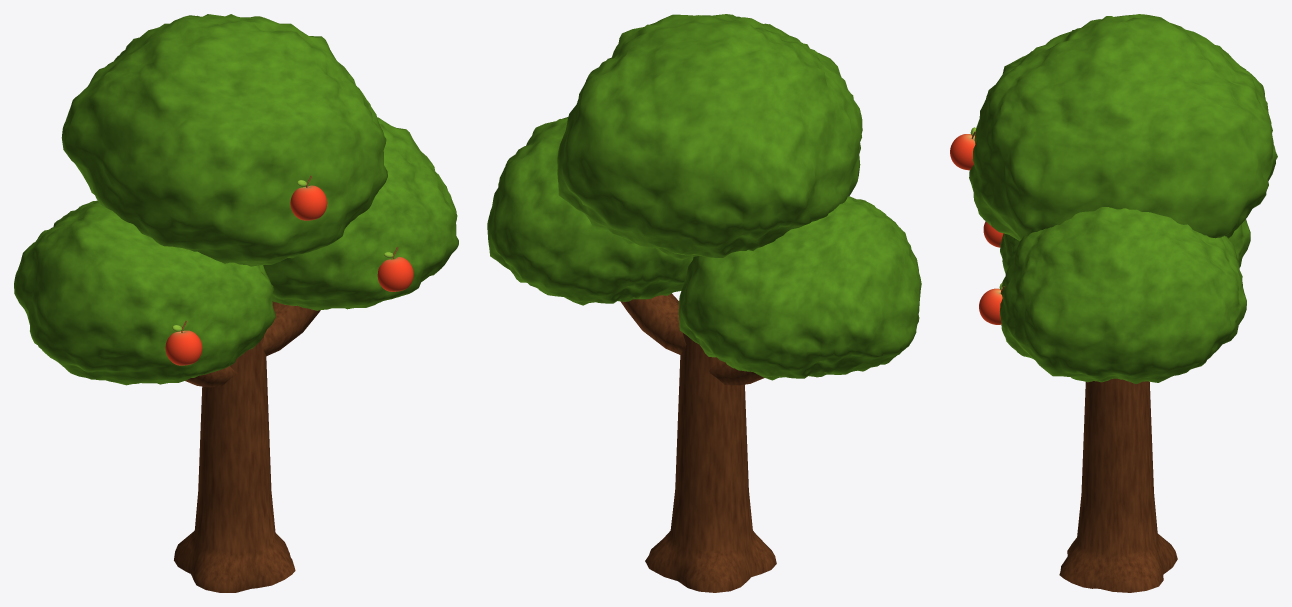
File: tree-5.glb
The picture shows the model from 3 angles, left to right: view 1: azimuth 30°, elevation 25°; view 2: azimuth 150°, elevation 25°; view 3: azimuth 270°, elevation 25°; orthographic projection.
Parts seen in each view (by area): view 1: Leaf 5A, Leaf 5C, Tree 5, Leaf 5B, Apple C, Apple A, Apple B; view 2: Leaf 5A, Leaf 5C, Tree 5, Leaf 5B; view 3: Leaf 5A, Leaf 5B, Tree 5, Leaf 5C, Apple A, Apple B.
Part boxes in pixels (bbox=[...]): Leaf 5A: bbox=[61, 14, 387, 266]; Leaf 5C: bbox=[14, 200, 275, 385]; Tree 5: bbox=[174, 301, 320, 592]; Leaf 5B: bbox=[263, 117, 458, 310]; Apple C: bbox=[165, 320, 202, 365]; Apple A: bbox=[290, 175, 327, 220]; Apple B: bbox=[377, 247, 413, 291]; Leaf 5A: bbox=[557, 14, 862, 260]; Leaf 5C: bbox=[678, 196, 921, 380]; Tree 5: bbox=[620, 293, 776, 592]; Leaf 5B: bbox=[487, 117, 692, 305]; Leaf 5A: bbox=[969, 14, 1277, 241]; Leaf 5B: bbox=[1000, 207, 1246, 383]; Tree 5: bbox=[1059, 378, 1177, 592]; Leaf 5C: bbox=[1000, 219, 1250, 273]; Apple A: bbox=[950, 127, 975, 170]; Apple B: bbox=[979, 283, 1004, 324].
Size of the model in its own units: 5.89 by 7.74 by 4.26.
5 materials, 5 textured.
